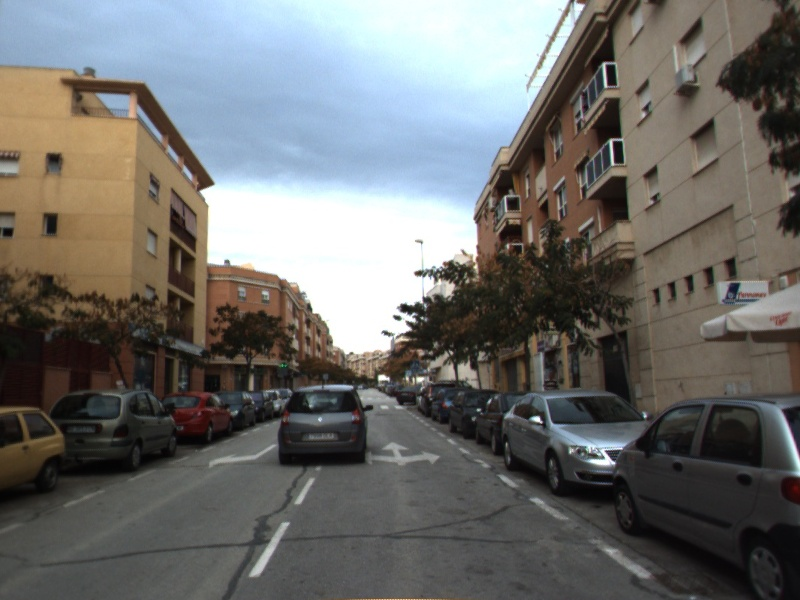STRAIGHT_LEFT_RIGHT: (364, 439, 444, 468)
